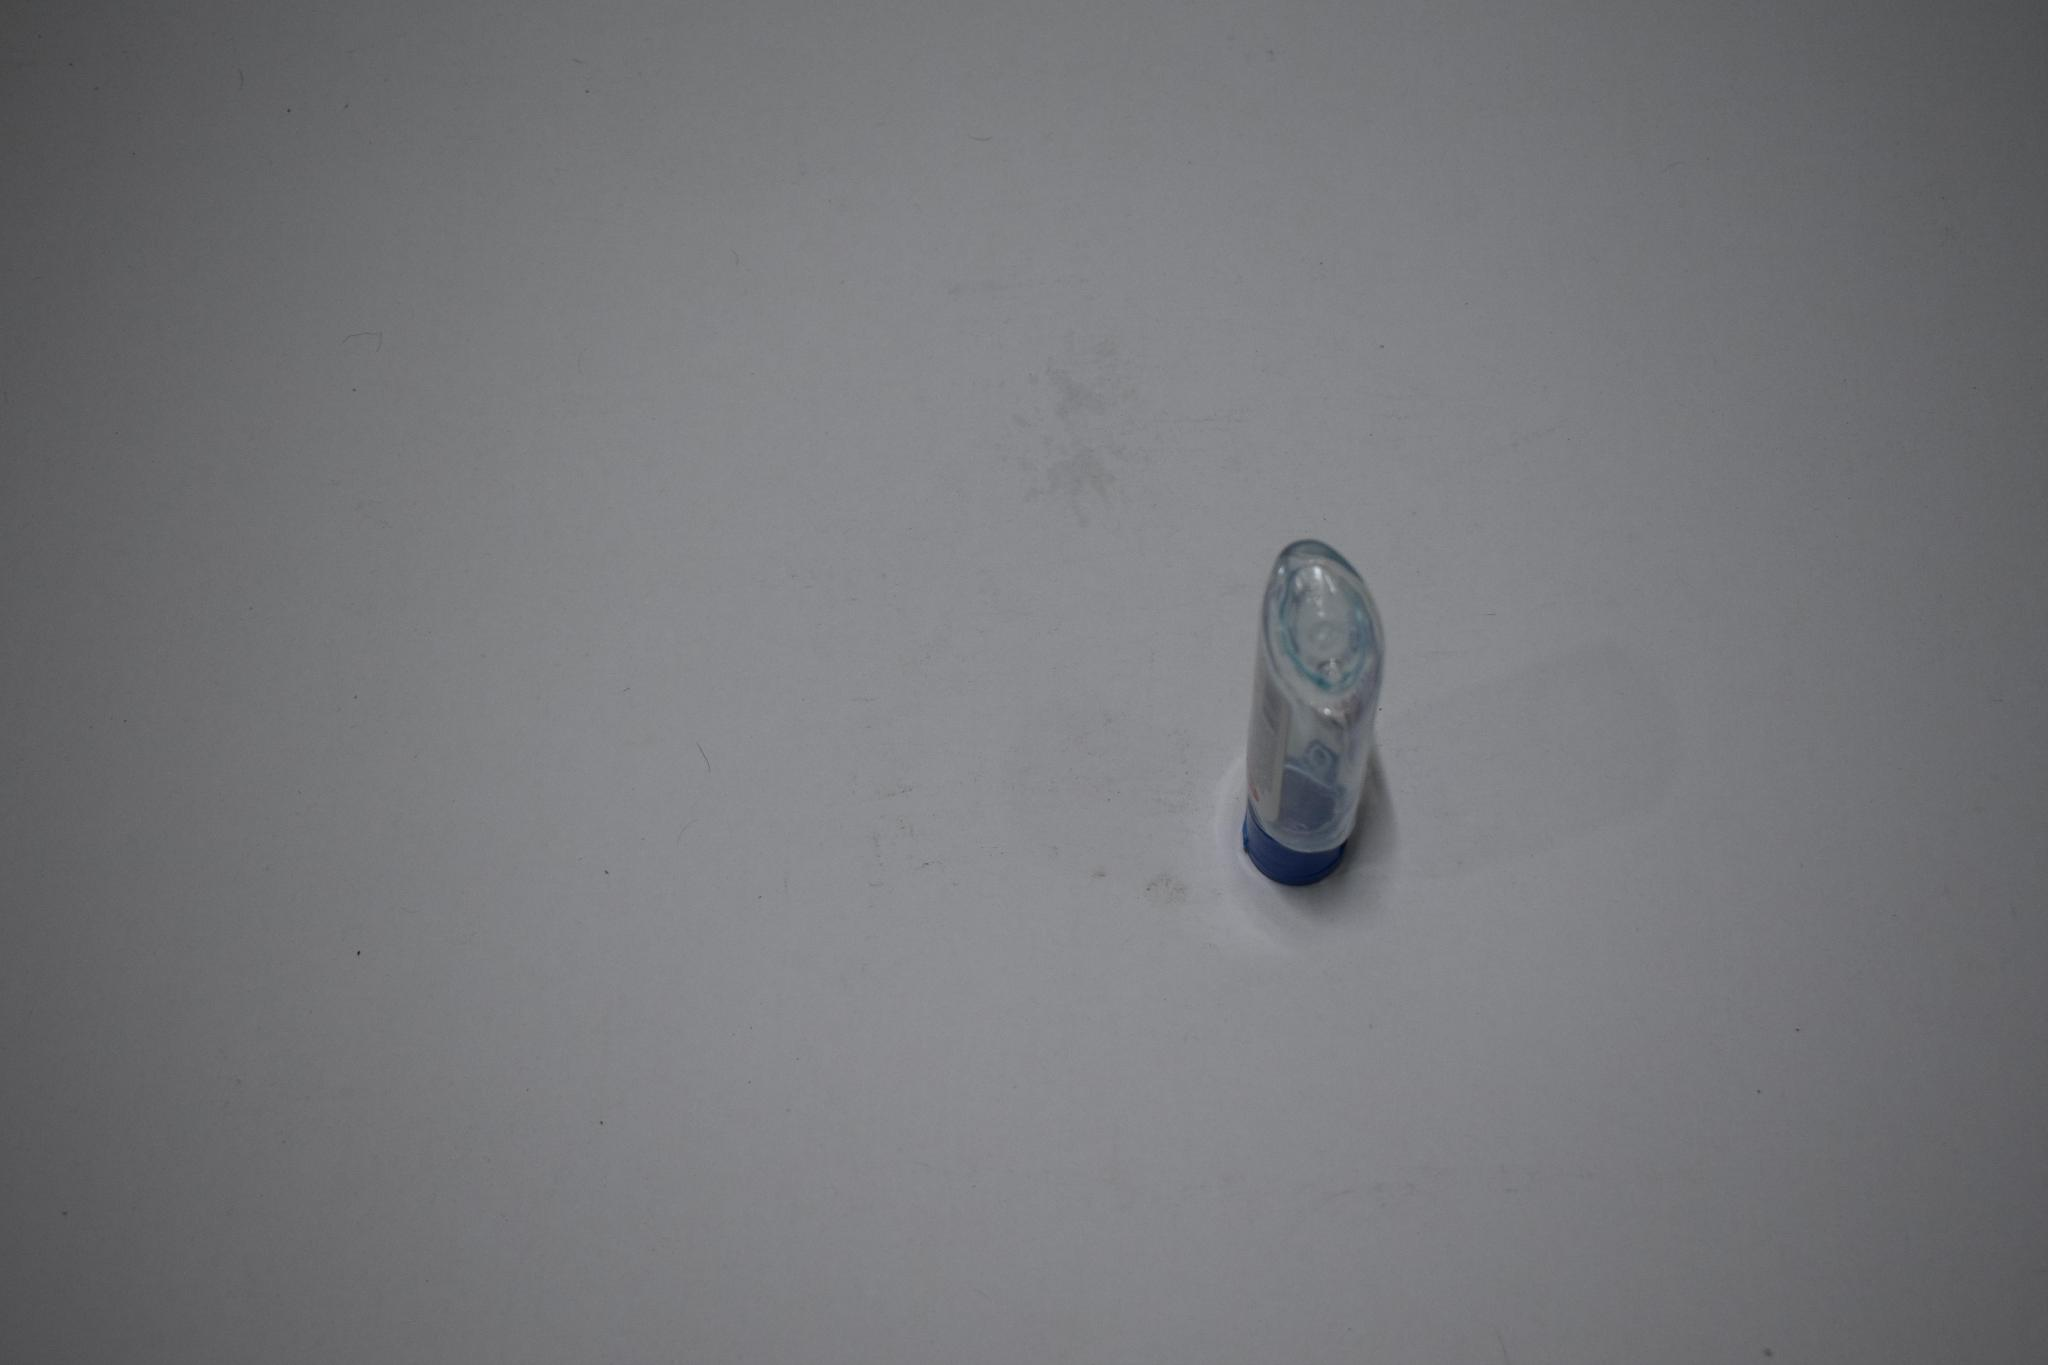bottle: (1243, 524, 1393, 891)
